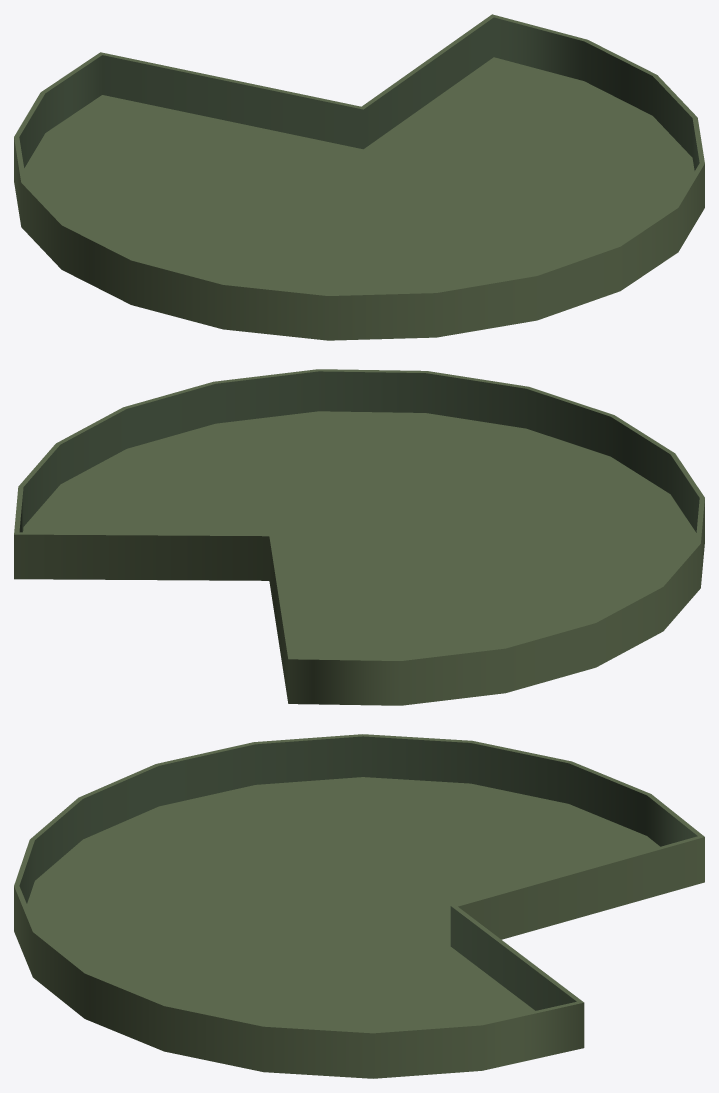
File: Lillypad Single.fbx
3 views of the same model, one above another, from view 1: azimuth 30°, elevation 25°; view 2: azimuth 150°, elevation 25°; view 3: azimuth 270°, elevation 25° (orthographic). The views are drawn at different scales.
Visible parts, largest first — view 1: pCylinder49; view 2: pCylinder49; view 3: pCylinder49.
Boxes of the visible parts, box(x1,y1,x2,y2) form: pCylinder49: box(14, 14, 704, 340); pCylinder49: box(14, 369, 704, 705); pCylinder49: box(14, 734, 704, 1078).
Bounding box in the file's own units: 36.6 × 2.59 × 35.72.
